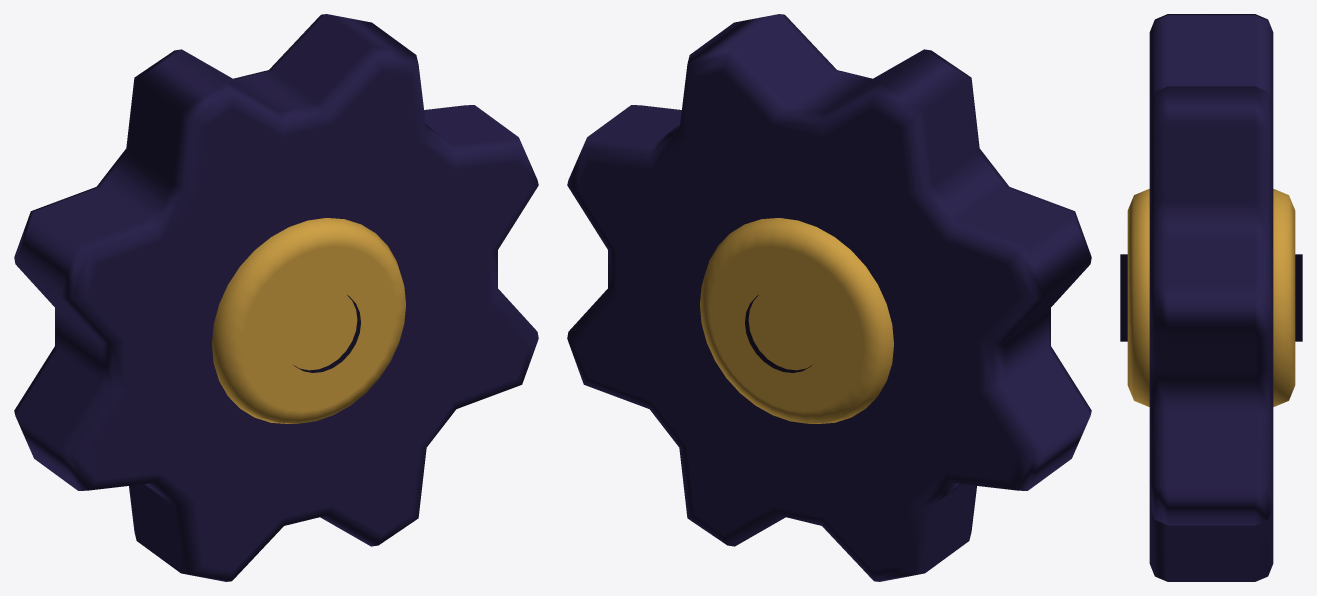
Rendered from icon_gear.glb.
3 views of the same model, side by side, from view 1: azimuth 30°, elevation 25°; view 2: azimuth 150°, elevation 25°; view 3: azimuth 270°, elevation 25° (orthographic).
Visible parts, largest first — view 1: icon_gear; view 2: icon_gear; view 3: icon_gear.
Part boxes in pixels (box(x1,y1,x2,y2)): icon_gear: box(14, 14, 538, 581); icon_gear: box(567, 14, 1091, 581); icon_gear: box(1120, 14, 1302, 581).
Bounding box in the file's own units: 1.49 × 1.49 × 0.5.
